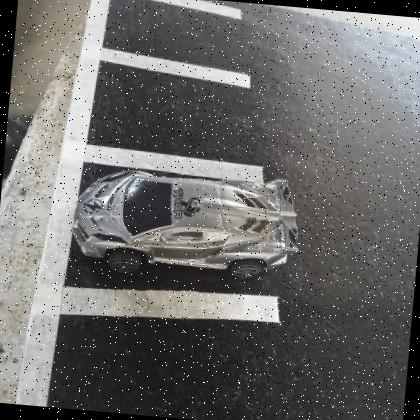Car: (72, 169, 298, 278)
